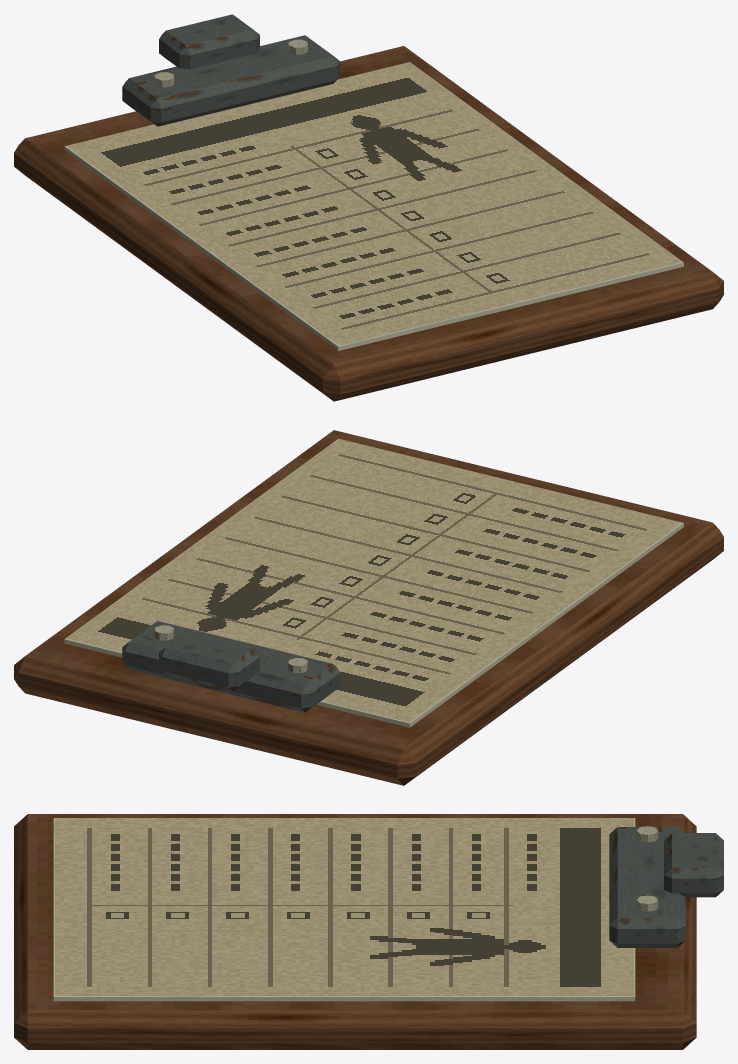
The model's file is clipboard.glb.
3 views of the same model, one above another, from view 1: azimuth 30°, elevation 25°; view 2: azimuth 150°, elevation 25°; view 3: azimuth 270°, elevation 25° (orthographic). The views are drawn at different scales.
Visible parts, largest first — view 1: Patient chart.002, Clipboard_Mesh.002, Clipboard_Clip_Mesh.002; view 2: Patient chart.002, Clipboard_Mesh.002, Clipboard_Clip_Mesh.002; view 3: Patient chart.002, Clipboard_Mesh.002, Clipboard_Clip_Mesh.002.
Part boxes in pixels (bbox=[...]): Patient chart.002: bbox=[66, 62, 681, 345]; Clipboard_Mesh.002: bbox=[14, 46, 723, 401]; Clipboard_Clip_Mesh.002: bbox=[122, 14, 340, 126]; Patient chart.002: bbox=[66, 439, 681, 722]; Clipboard_Mesh.002: bbox=[14, 430, 723, 785]; Clipboard_Clip_Mesh.002: bbox=[122, 621, 340, 712]; Patient chart.002: bbox=[55, 818, 633, 995]; Clipboard_Mesh.002: bbox=[14, 814, 696, 1049]; Clipboard_Clip_Mesh.002: bbox=[609, 826, 723, 947].
Size of the model in its own units: 0.18 by 0.041 by 0.26.
2 materials, 2 textured.
